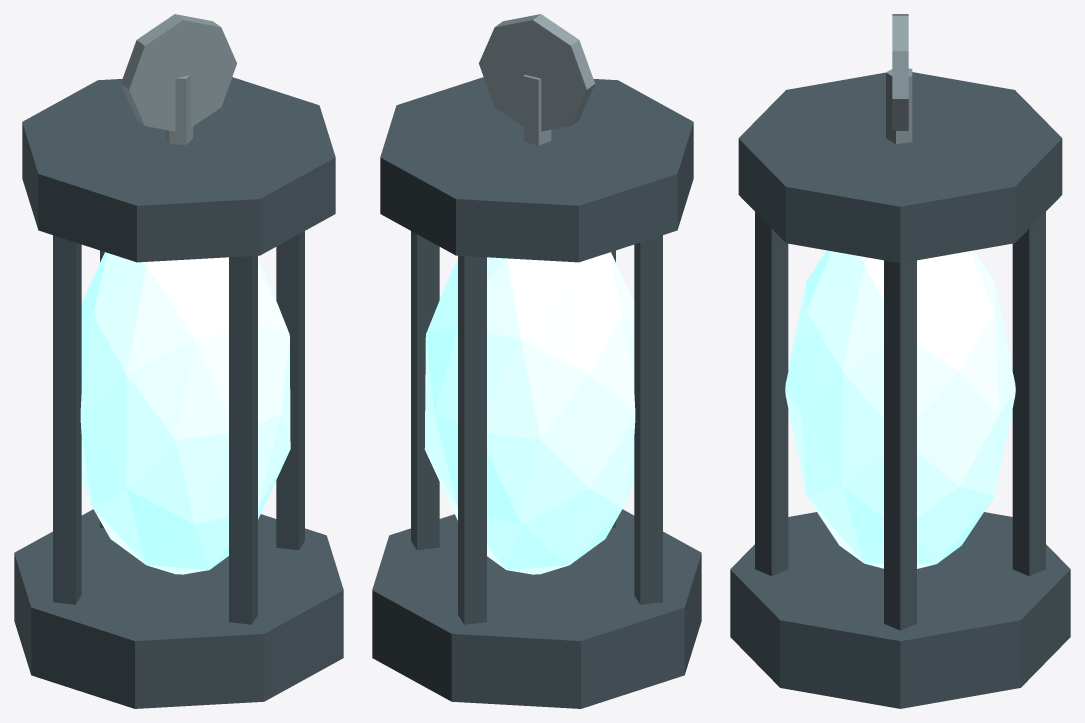
File: lantern.glb
3 views of the same model, side by side, from view 1: azimuth 30°, elevation 25°; view 2: azimuth 150°, elevation 25°; view 3: azimuth 270°, elevation 25° (orthographic).
Parts seen in each view (by area): view 1: lantern.001; view 2: lantern.001; view 3: lantern.001.
Part boxes in pixels (x1,y1,x2,y2): lantern.001: [14, 14, 343, 708]; lantern.001: [372, 14, 701, 708]; lantern.001: [730, 14, 1070, 708].
Bounding box in the file's own units: 0.1789 × 0.36 × 0.1789.
